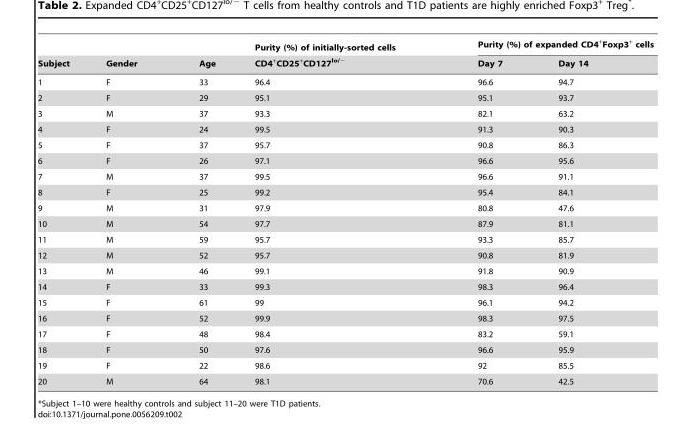table: (37, 36, 653, 385)
table column: (234, 36, 435, 385), (529, 36, 653, 385), (435, 36, 529, 385), (87, 36, 167, 385), (167, 36, 234, 385), (37, 36, 87, 385)
table column header: (37, 36, 653, 72)
table row: (37, 53, 653, 72), (37, 36, 653, 53), (37, 72, 653, 89), (37, 89, 653, 105), (37, 105, 653, 121), (37, 121, 653, 137), (37, 152, 653, 168), (37, 168, 653, 184), (37, 184, 653, 200), (37, 215, 653, 231), (37, 231, 653, 247), (37, 247, 653, 263), (37, 278, 653, 294), (37, 294, 653, 310), (37, 310, 653, 326), (37, 341, 653, 357), (37, 357, 653, 373), (37, 137, 653, 152), (37, 200, 653, 215), (37, 263, 653, 278), (37, 326, 653, 341), (37, 373, 653, 385)
table spanning cell: (234, 36, 435, 72), (435, 36, 653, 53), (87, 36, 167, 72), (167, 36, 234, 72), (37, 36, 87, 72)
